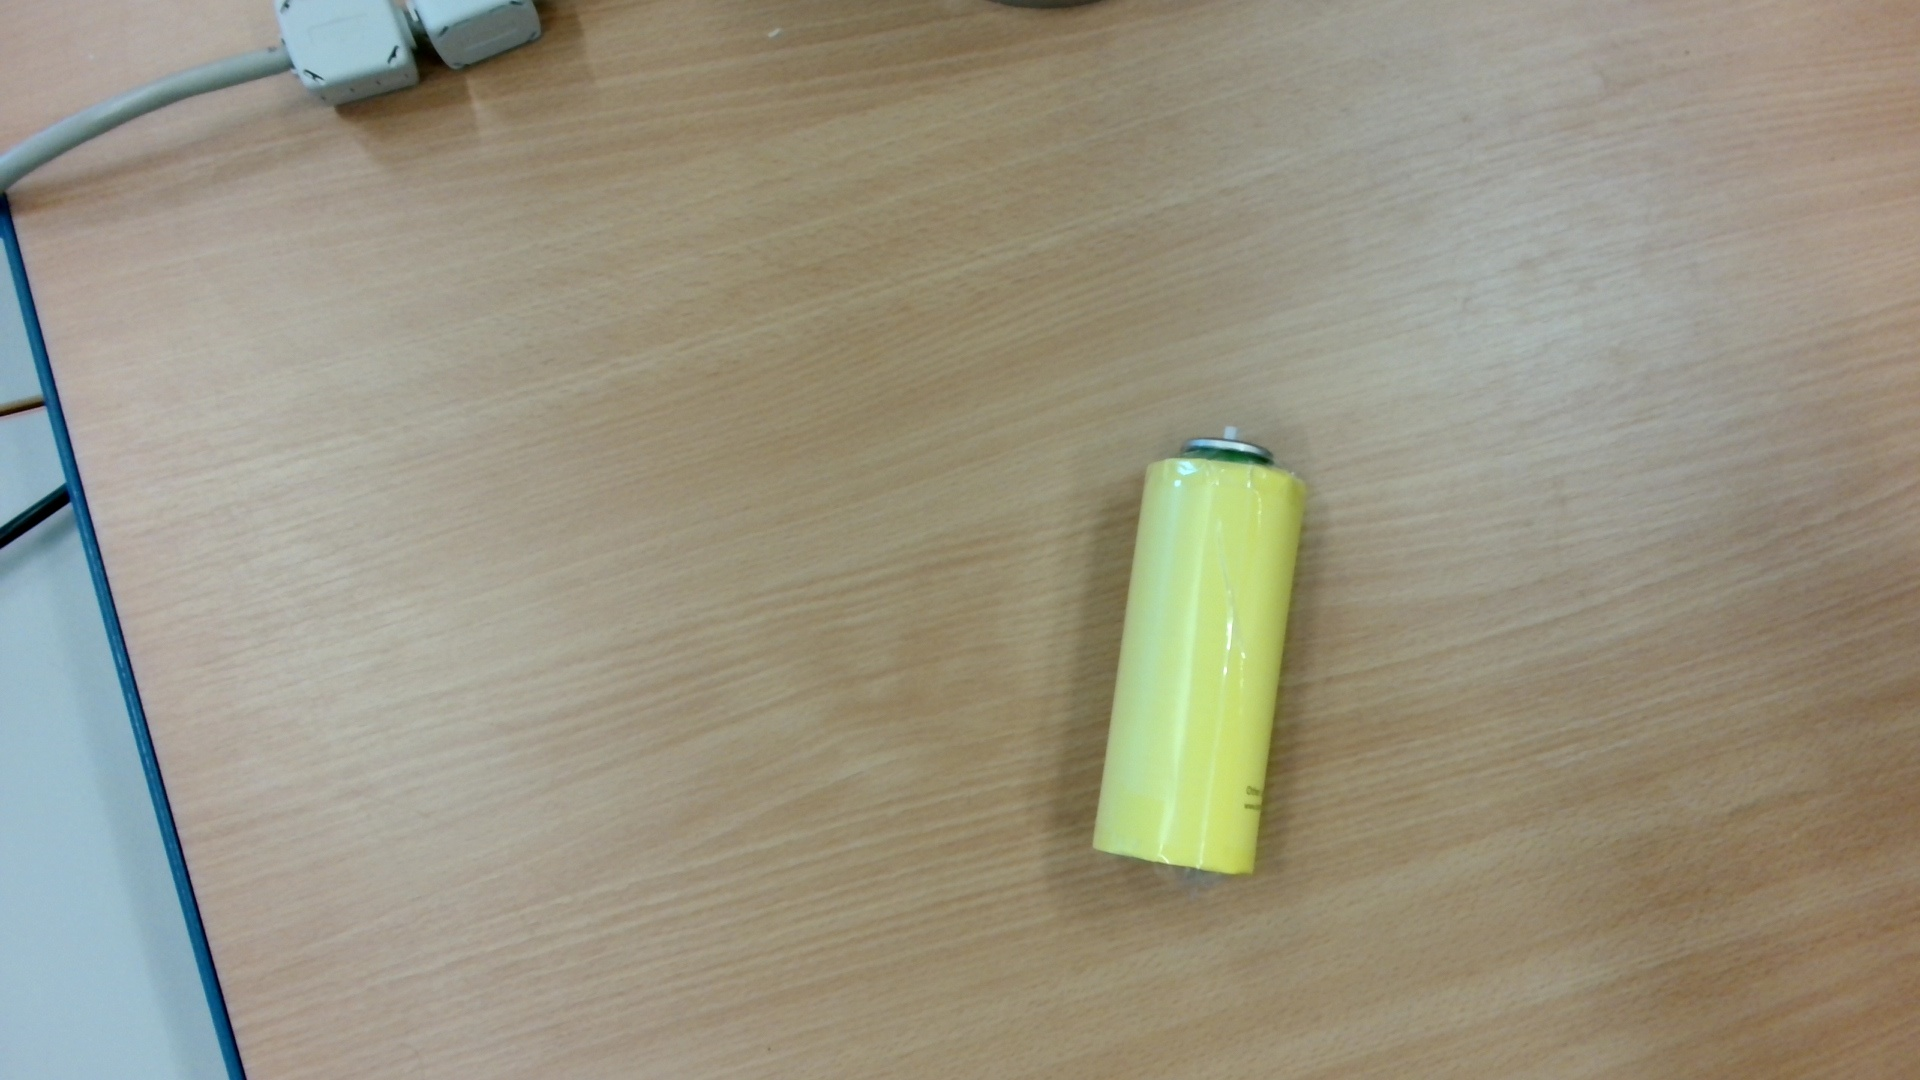Cylinder: (1058, 409, 1337, 899)
